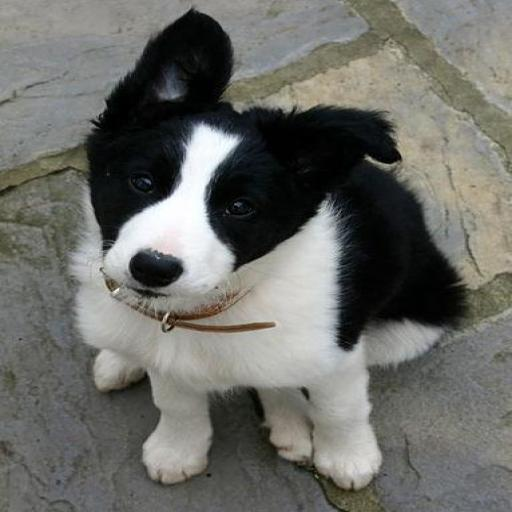dog_face: (76, 21, 375, 296)
